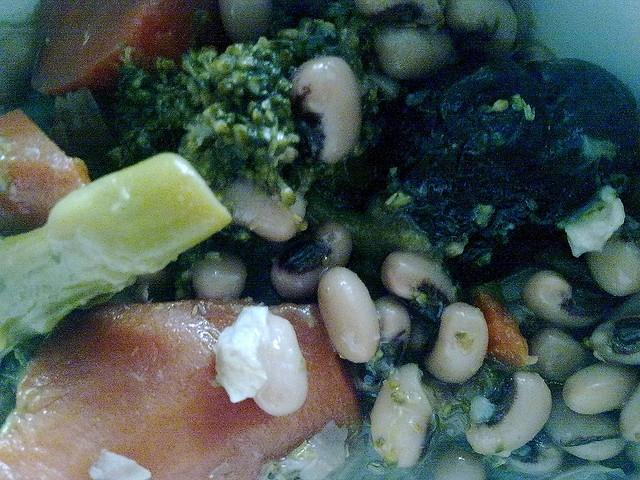broccoli: (0, 152, 233, 358), (388, 64, 590, 276), (153, 36, 301, 206), (269, 17, 401, 118)
